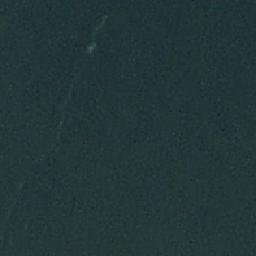debris: (86, 11, 110, 56)
